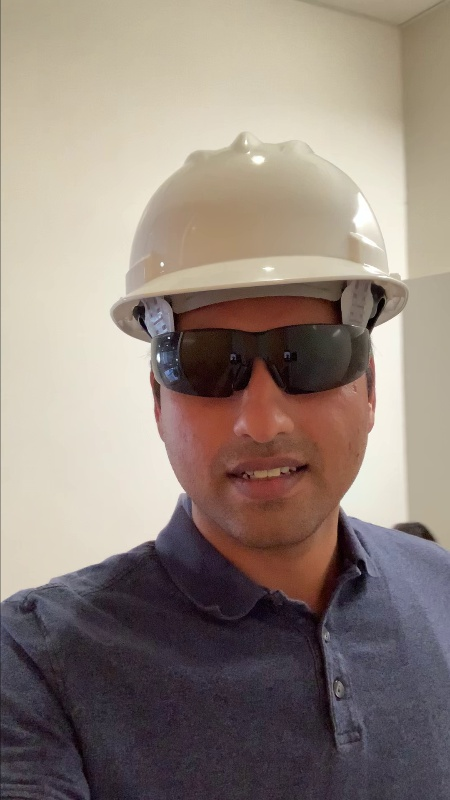glasses: (140, 320, 388, 399)
helmet: (108, 127, 419, 325)
